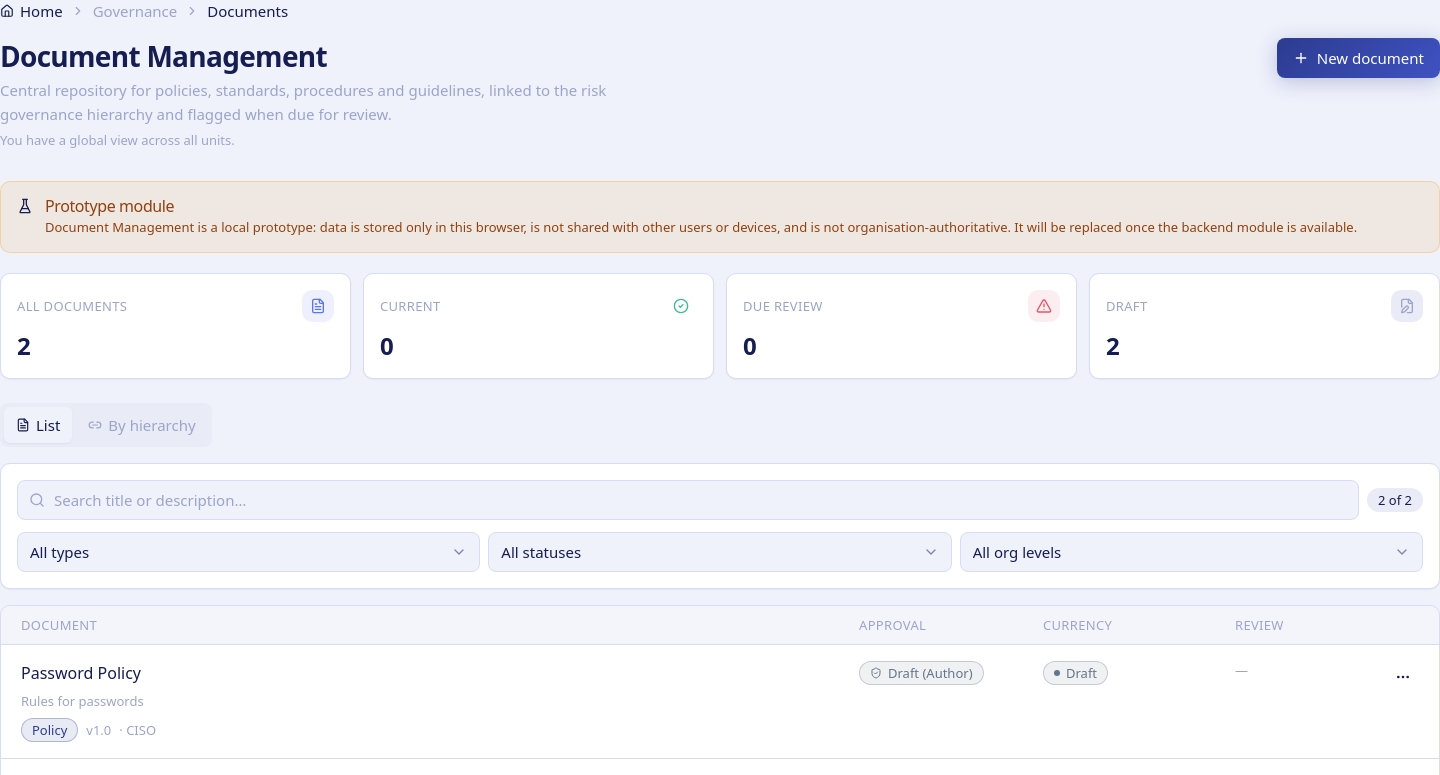
it: DocumentManagement › filters the list by search text and offers a way out when nothing matches
Type "backup" into the field named "Search documents" at (688, 500), box top-left (17, 480), bottom-right (1359, 520)
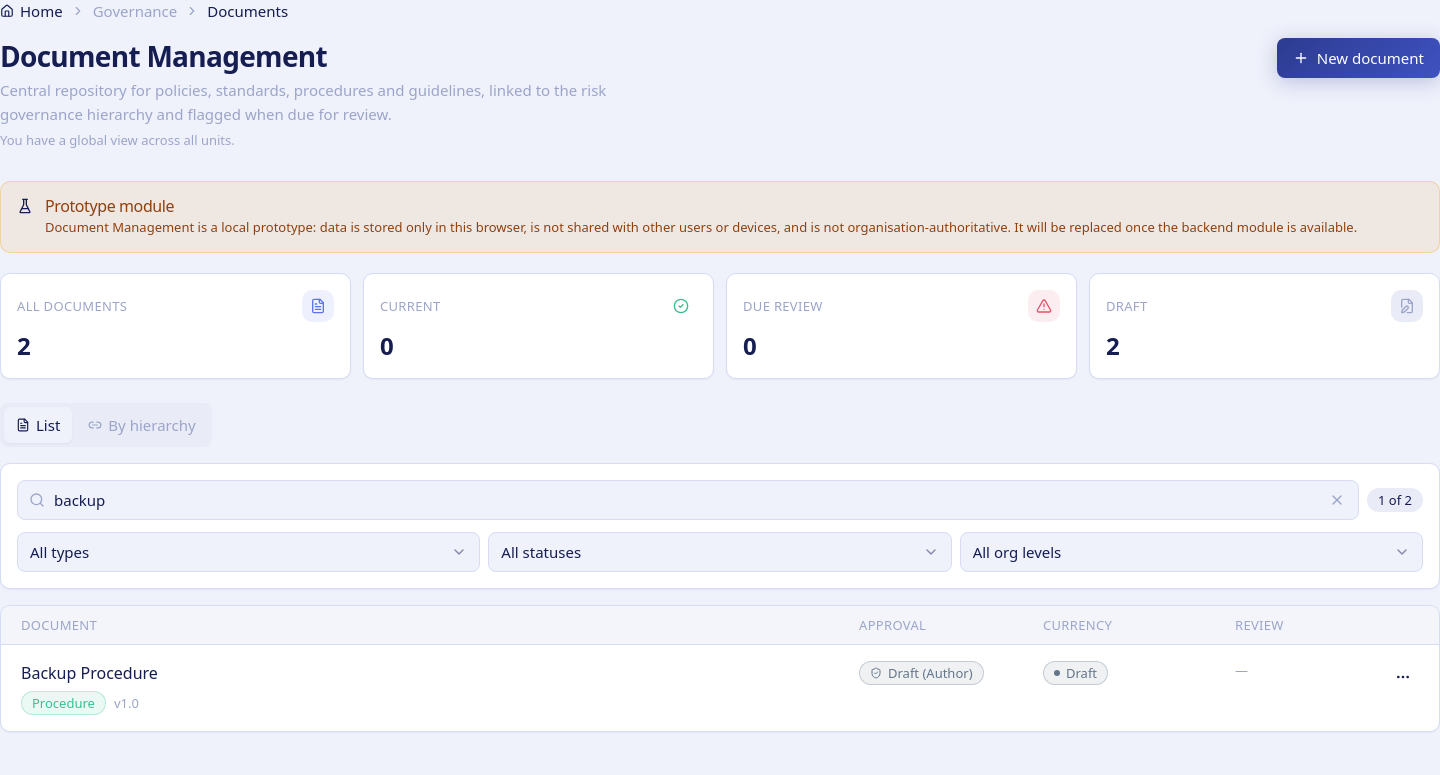
Expected: the text "Backup Procedure" is shown, top-left (21, 661), bottom-right (158, 685)
Expected: the text "Password Policy" is gone
Replace the text in the field named "Search documents" with "zzz" at (688, 500), box top-left (17, 480), bottom-right (1359, 520)
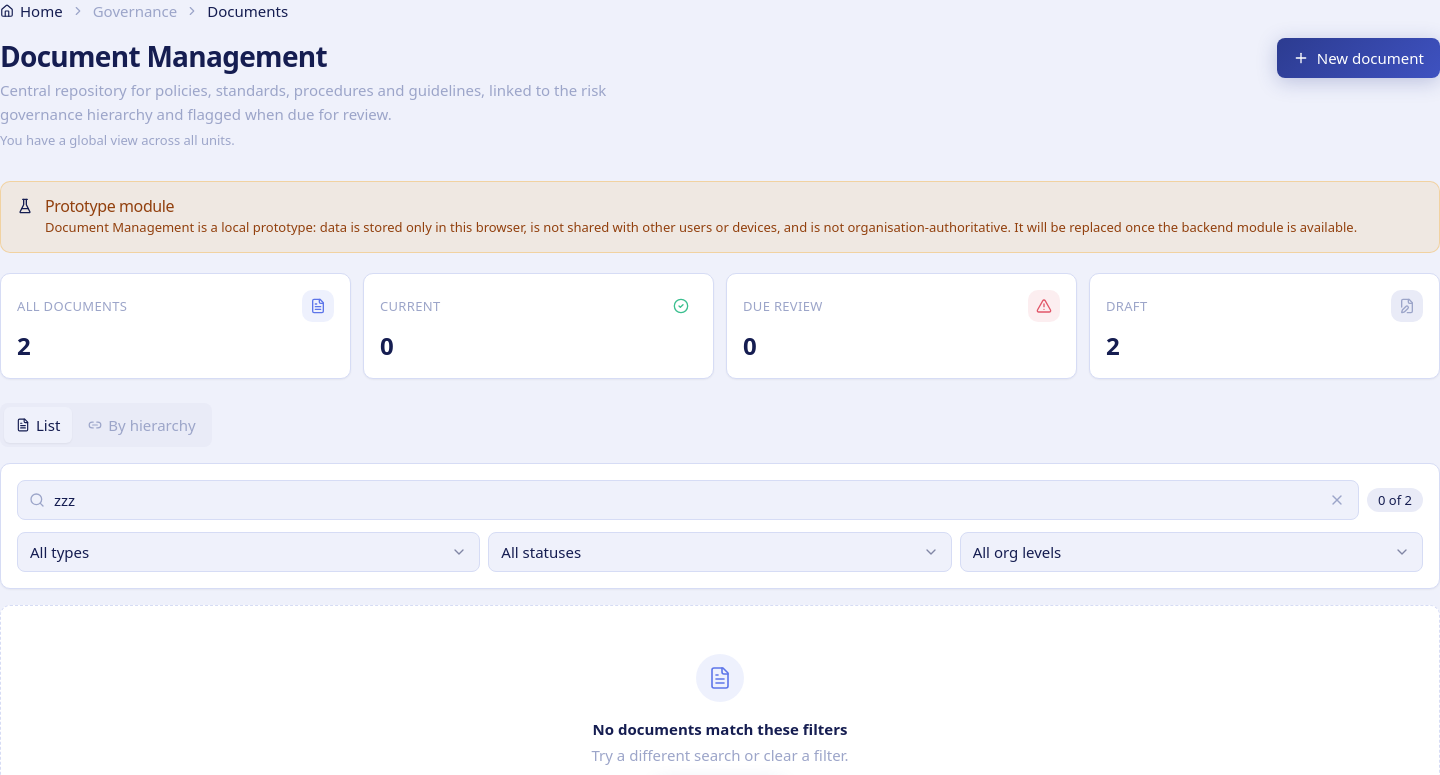
Expected: the text "No documents match these filters" is shown, top-left (593, 718), bottom-right (848, 740)
